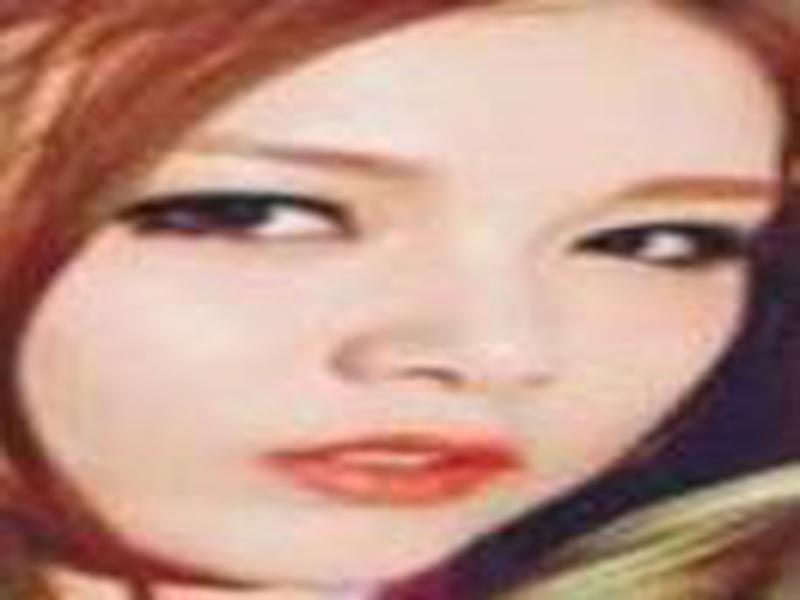without_mask: (25, 67, 782, 585)
